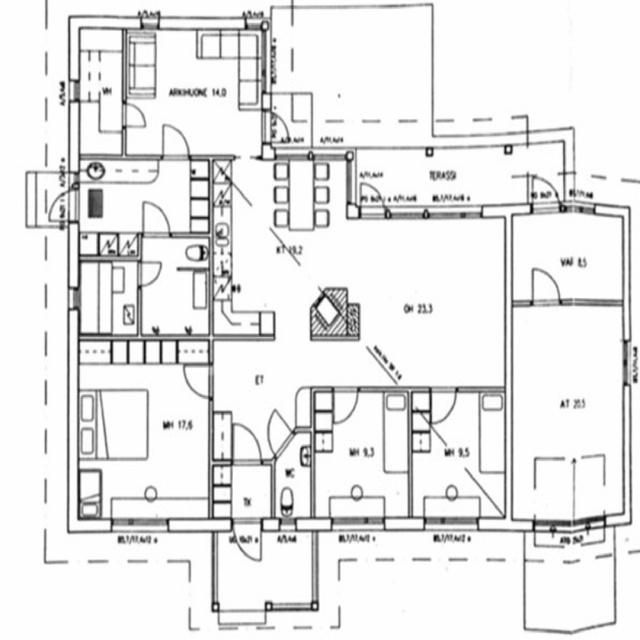door: (230, 419, 264, 469), (139, 196, 174, 244), (529, 263, 564, 309), (231, 516, 263, 566), (158, 120, 193, 164), (180, 360, 217, 401), (528, 172, 561, 216), (428, 385, 460, 428), (44, 189, 78, 227), (261, 110, 293, 150), (331, 384, 360, 428), (358, 179, 388, 221), (266, 406, 292, 454), (135, 257, 165, 291), (120, 99, 150, 133)
window: (216, 600, 268, 630), (108, 514, 172, 538), (560, 292, 621, 312), (426, 205, 485, 224), (329, 514, 385, 533), (387, 205, 429, 223), (268, 598, 314, 614), (618, 339, 632, 388), (273, 146, 312, 163), (564, 201, 598, 219), (344, 158, 356, 207), (137, 11, 163, 33), (312, 148, 348, 163), (66, 284, 82, 314), (278, 515, 299, 535), (40, 352, 52, 386), (40, 400, 52, 434), (40, 448, 51, 484), (41, 25, 51, 59), (234, 151, 258, 165), (40, 306, 52, 334)
zone: (211, 162, 358, 388), (511, 301, 630, 528), (357, 215, 508, 390), (75, 341, 213, 527), (126, 29, 267, 158), (410, 390, 510, 522), (313, 392, 412, 525), (512, 210, 627, 305), (78, 155, 210, 236), (138, 236, 210, 340), (73, 26, 125, 160), (76, 232, 140, 338), (274, 434, 313, 526)
